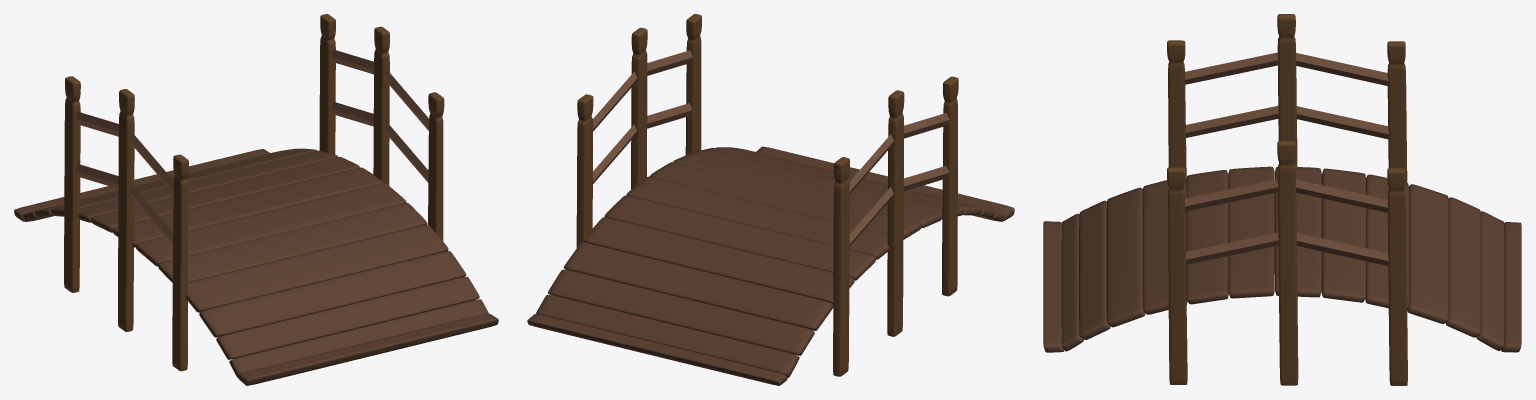
File: bridgesingle.fbx
3 views of the same model, side by side, from view 1: azimuth 30°, elevation 25°; view 2: azimuth 150°, elevation 25°; view 3: azimuth 270°, elevation 25° (orthographic).
Parts seen in each view (by area): view 1: Cube, Cube.001, Cube.002, Circle.002, Circle.001; view 2: Cube, Cube.001, Cube.002, Circle.002, Circle.001; view 3: Cube, Cube.002, Cube.001, Circle.001, Circle.002.
Part boxes in pixels (bbox=[...]): Cube: bbox=[14, 148, 498, 385]; Cube.001: bbox=[64, 76, 188, 371]; Cube.002: bbox=[319, 14, 444, 240]; Circle.002: bbox=[75, 112, 173, 244]; Circle.001: bbox=[330, 49, 428, 182]; Cube: bbox=[527, 146, 1014, 385]; Cube.001: bbox=[833, 76, 958, 376]; Cube.002: bbox=[576, 14, 701, 247]; Circle.002: bbox=[849, 113, 949, 246]; Circle.001: bbox=[593, 50, 692, 183]; Cube: bbox=[1043, 166, 1521, 352]; Cube.002: bbox=[1167, 140, 1407, 385]; Cube.001: bbox=[1167, 14, 1407, 182]; Circle.001: bbox=[1185, 179, 1388, 265]; Circle.002: bbox=[1185, 52, 1388, 139].
Bounding box in the file's own units: 1102 × 951 × 1698.
